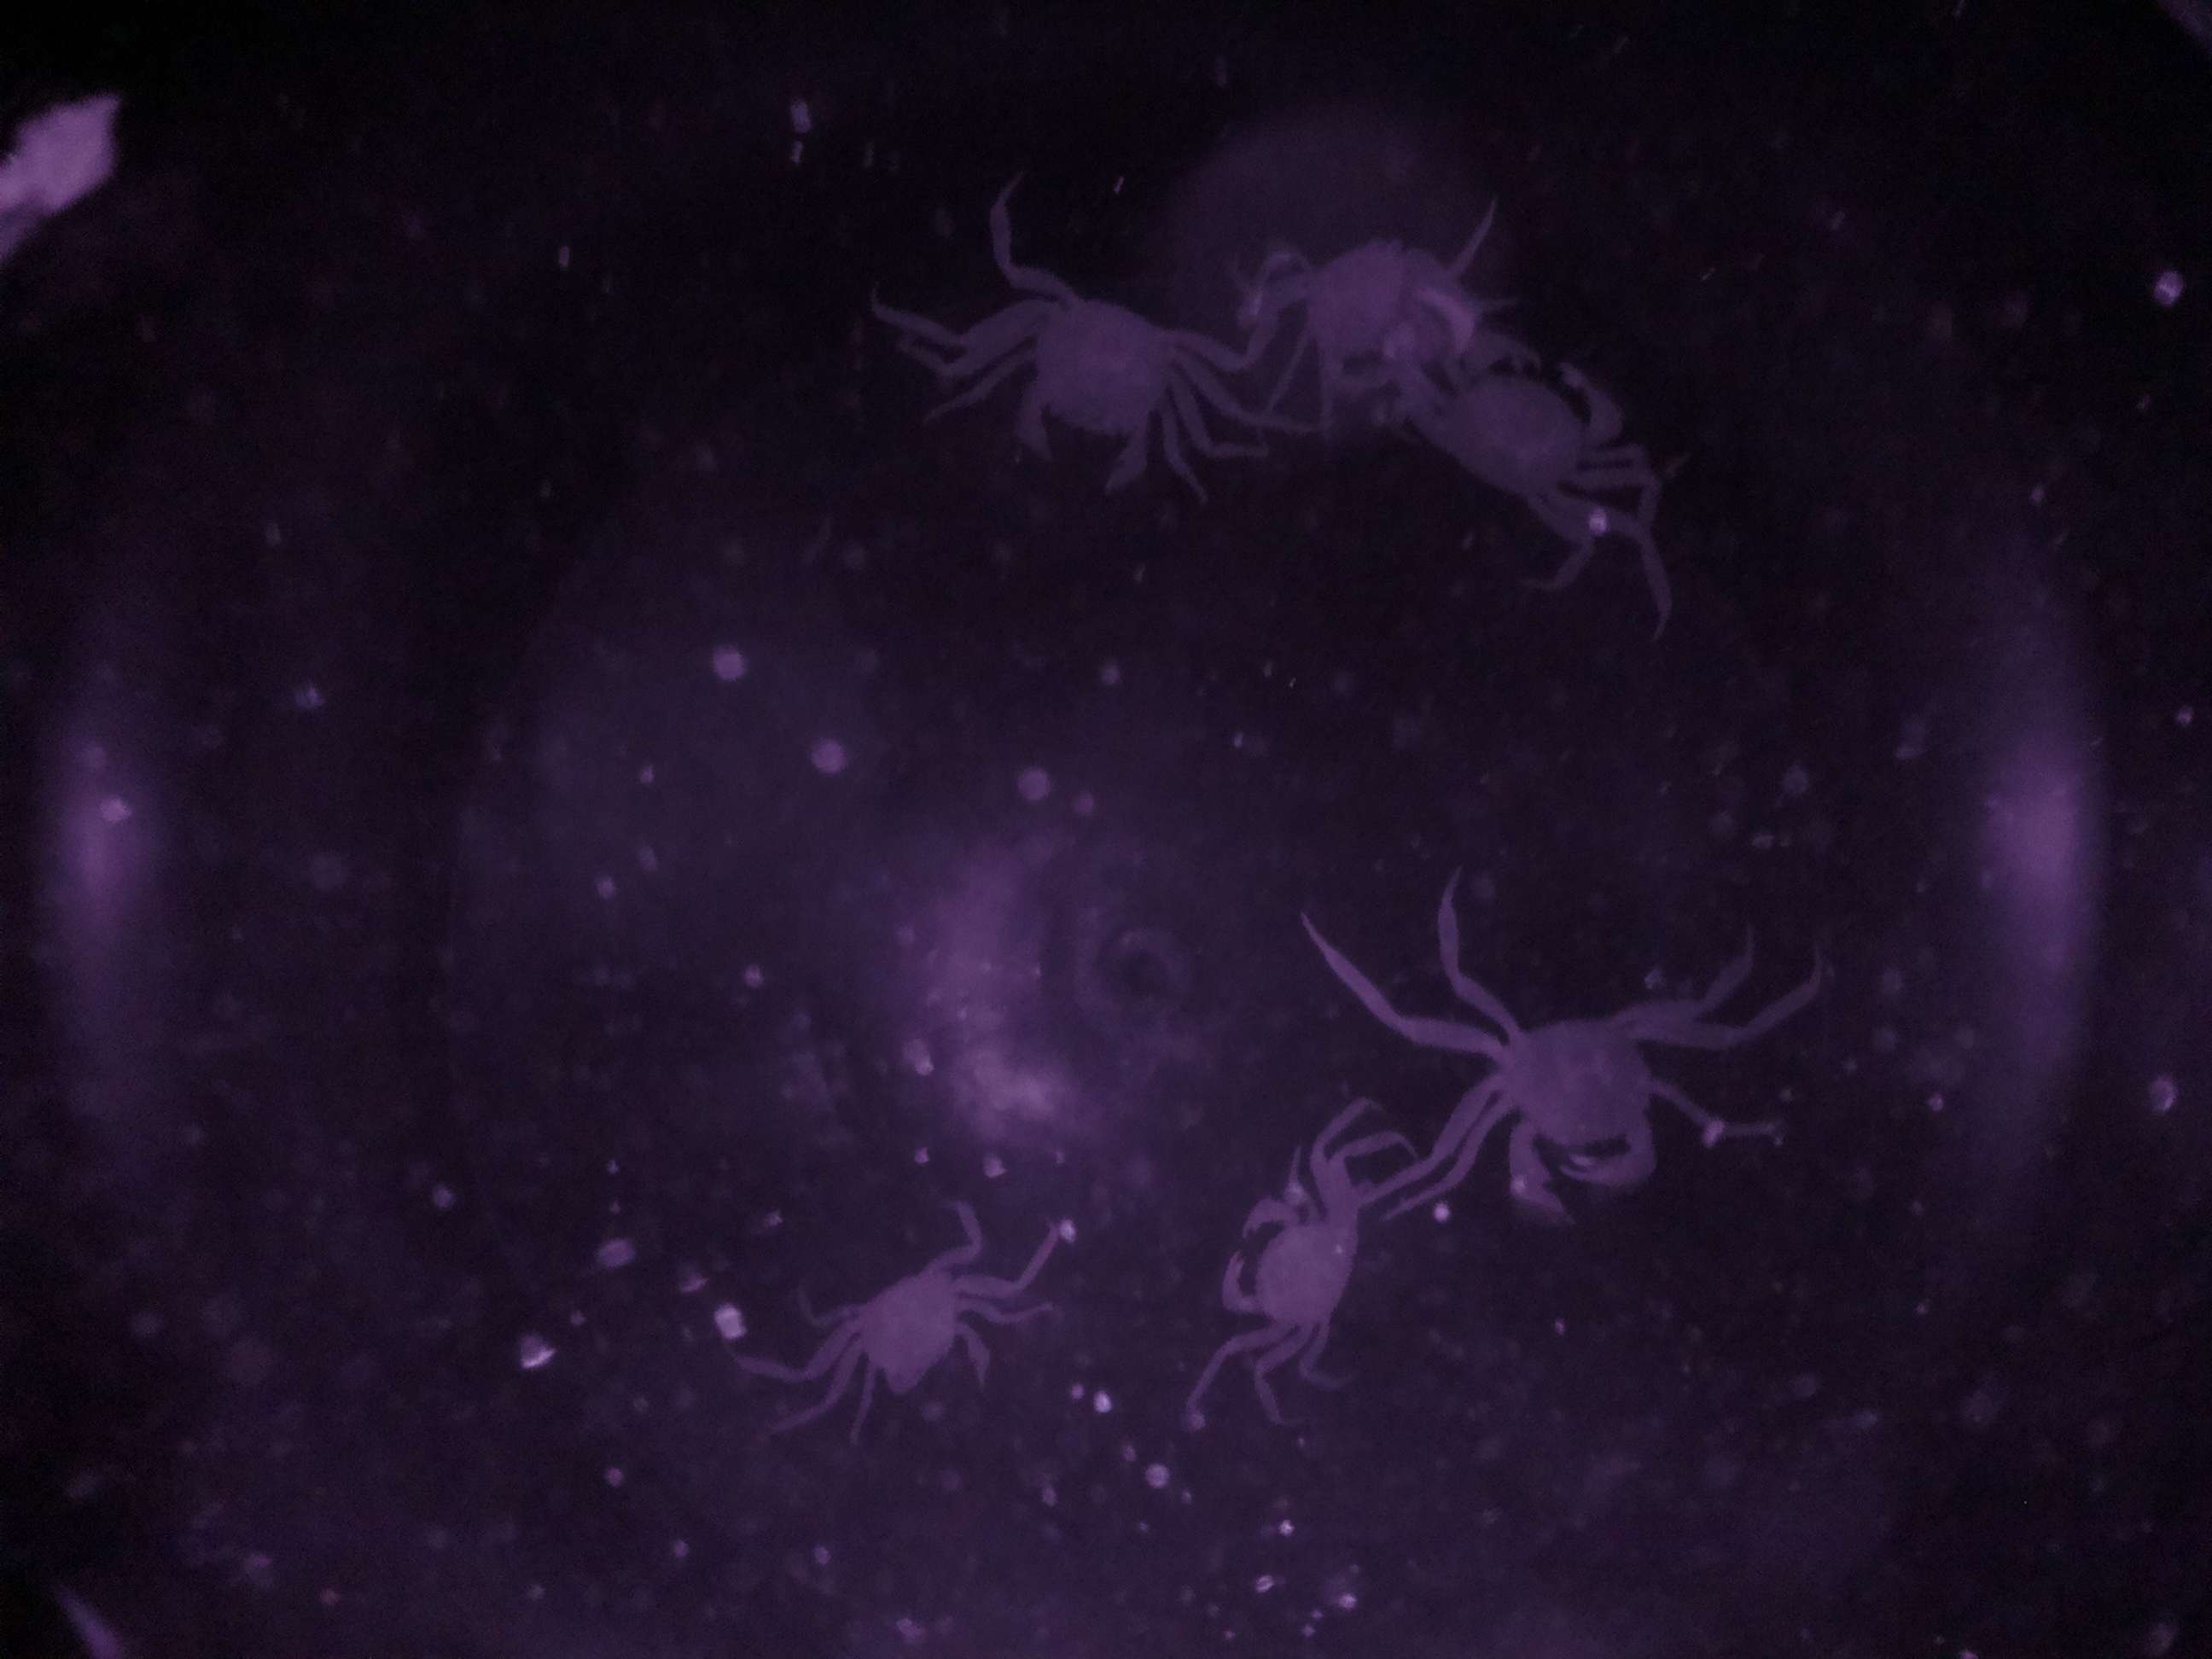Crab: (949, 263, 1242, 537), (1432, 967, 1735, 1229), (801, 1227, 1033, 1429), (1190, 1171, 1402, 1377)
